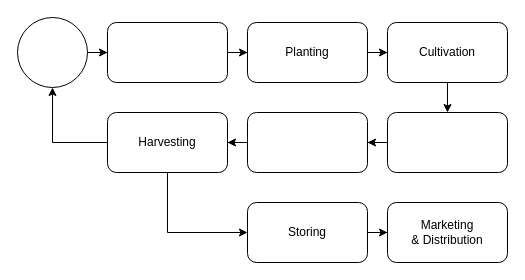
Image size: 525x280. Some labels were removed from this diagram. Each missing label, with the box of its shape:
Irrigation: (386, 112, 508, 172)
Land Preparation: (106, 22, 228, 82)
Pest Control: (246, 112, 368, 172)
